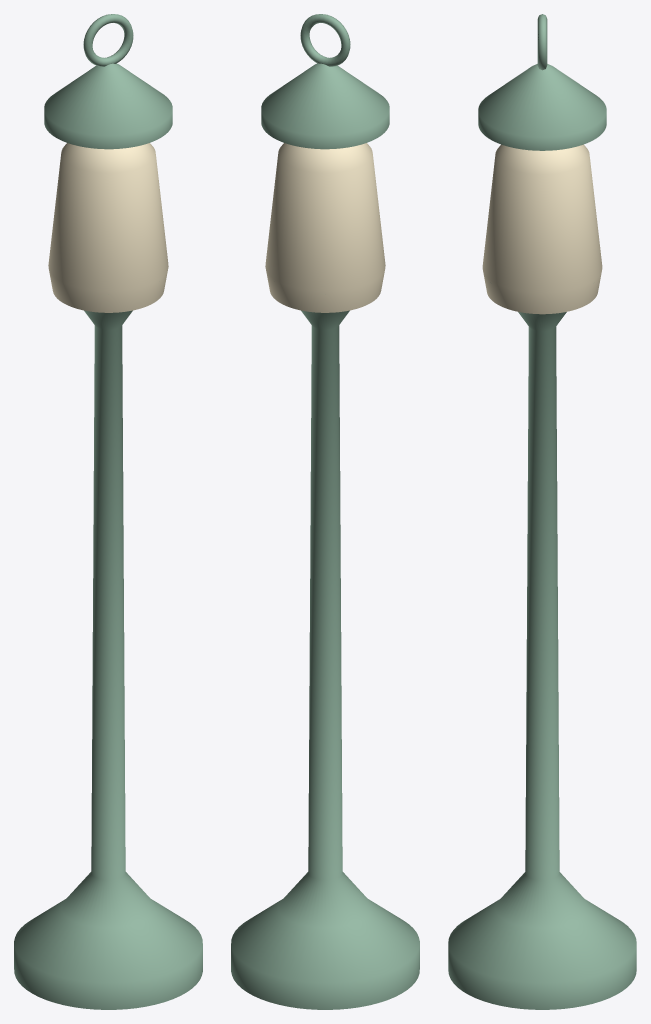
File: enchanted-harp-garden-and-music-sanctuary-lantern-stan-7dbbb4cb__30439.glb
3 views of the same model, side by side, from view 1: azimuth 30°, elevation 25°; view 2: azimuth 150°, elevation 25°; view 3: azimuth 270°, elevation 25° (orthographic).
Parts seen in each view (by area): view 1: lantern-standard; view 2: lantern-standard; view 3: lantern-standard.
Part boxes in pixels (left/top/right/bottom): lantern-standard: left=14, top=14, right=202, bottom=1009; lantern-standard: left=231, top=14, right=419, bottom=1009; lantern-standard: left=448, top=14, right=636, bottom=1009.
Bounding box in the file's own units: 0.4398 × 2.46 × 0.4398.
